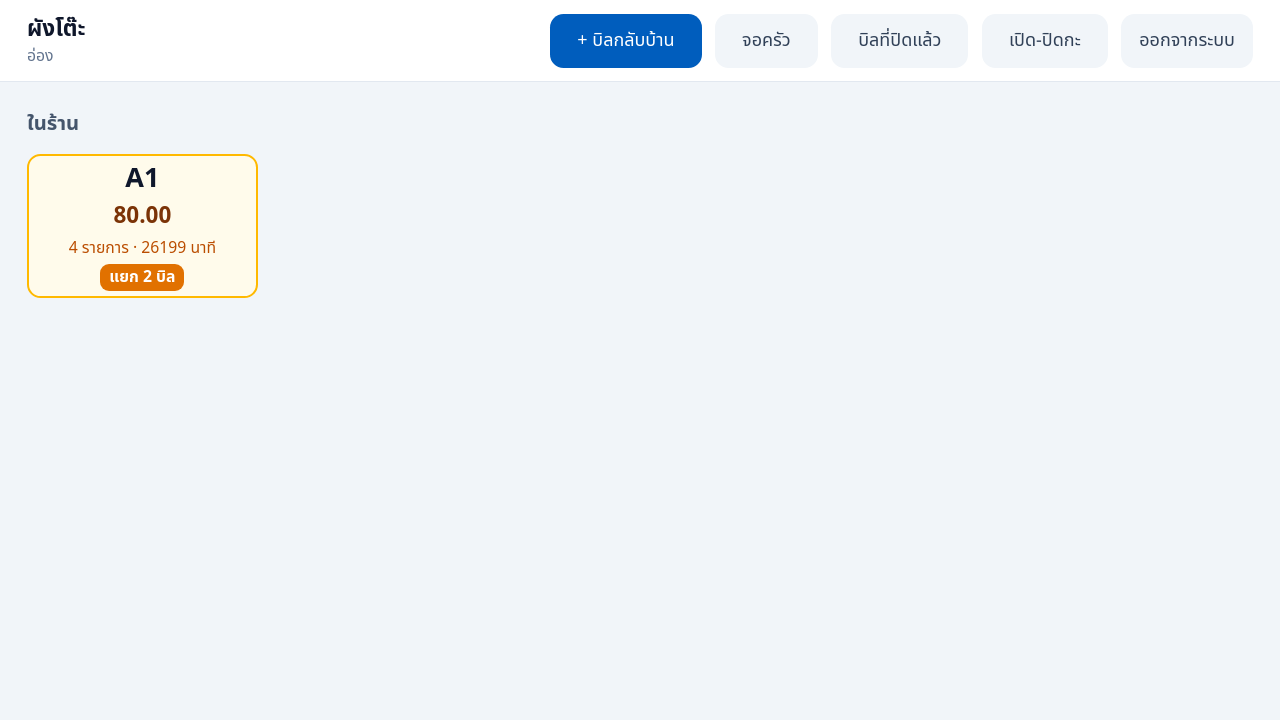
a table with two bills on it › asks which bill rather than guessing
This screenshot has width=1280, height=720.
Click the button "A1 80.00 4 รายการ · 26199 นาที แยก 2 บิล" at (142, 226), box [27,154,258,298]
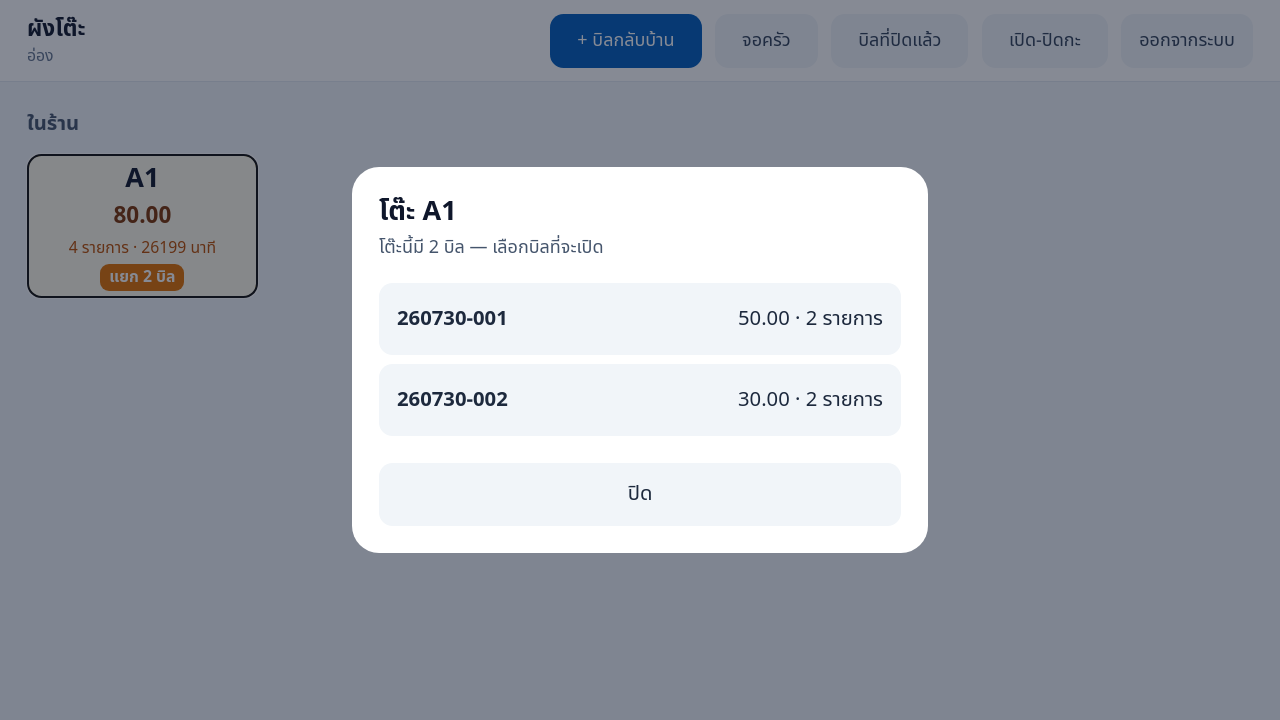
Expected: the dialog "โต๊ะ A1" shows "260730-001", [379,284,901,356]
Expected: the dialog "โต๊ะ A1" shows "260730-002", [379,364,901,436]
